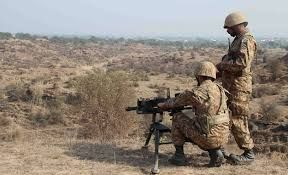uniform: (210, 4, 257, 165), (169, 54, 228, 163)
